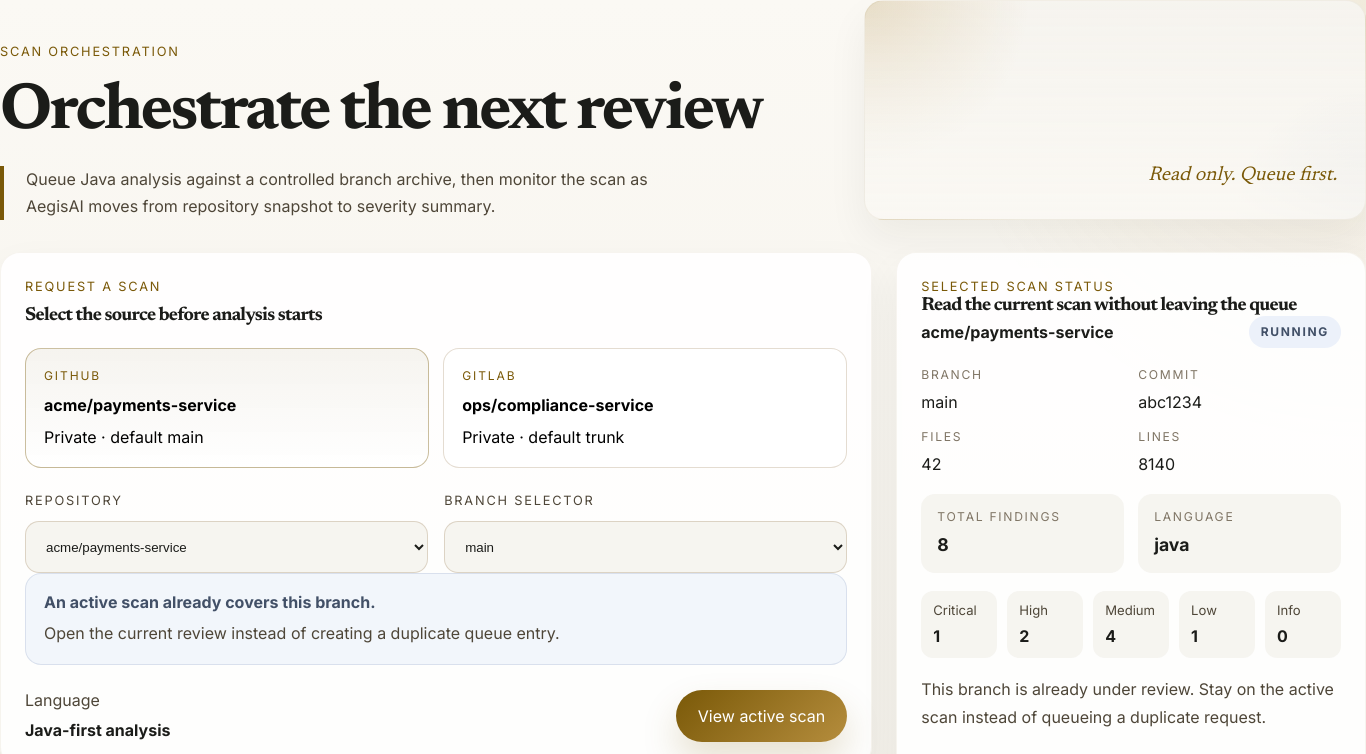
Test: ScanPage › allows switching away from a repository seeded by the query parameter
The width and height of the screenshot is (1366, 754).
Select "ops/compliance-service" in the dropdown named "repository selector". click: (227, 547)
box: top-left (25, 521), bottom-right (428, 573)
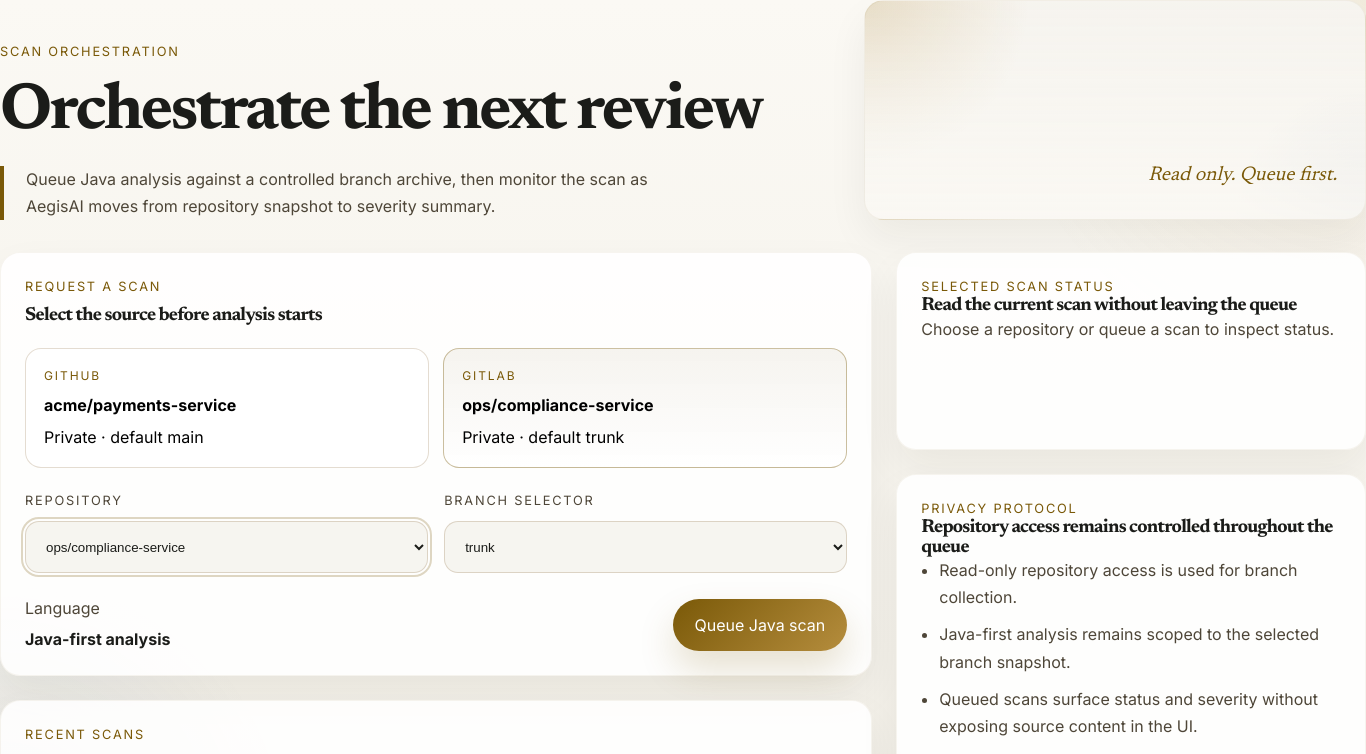
Now the dropdown labelled "Branch selector" shows "trunk", box top-left (444, 521), bottom-right (847, 573)
